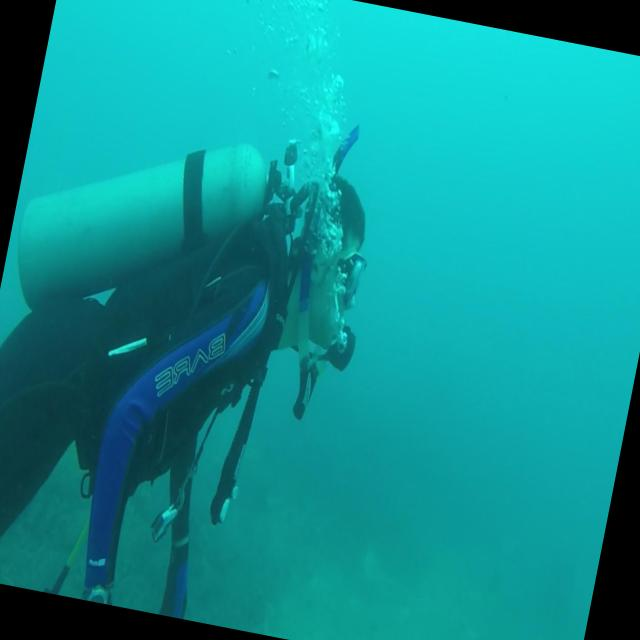human: (0, 98, 390, 640)
